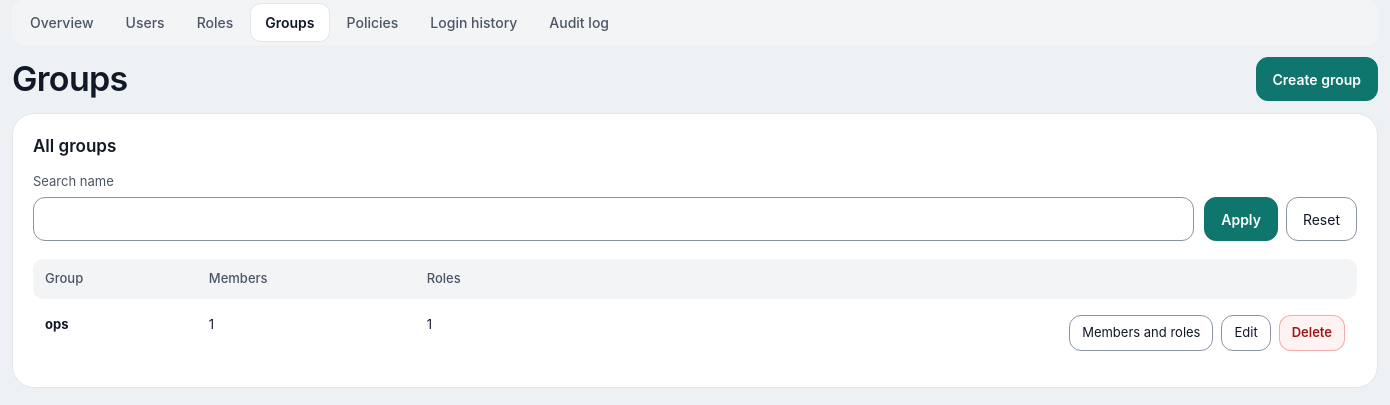
it: IAM groups › filters by name
Expected: the cell "ops" is shown, [33, 304, 197, 360]
Type "nope" into the field labelled "Search name" at (614, 219), box [33, 197, 1194, 241]
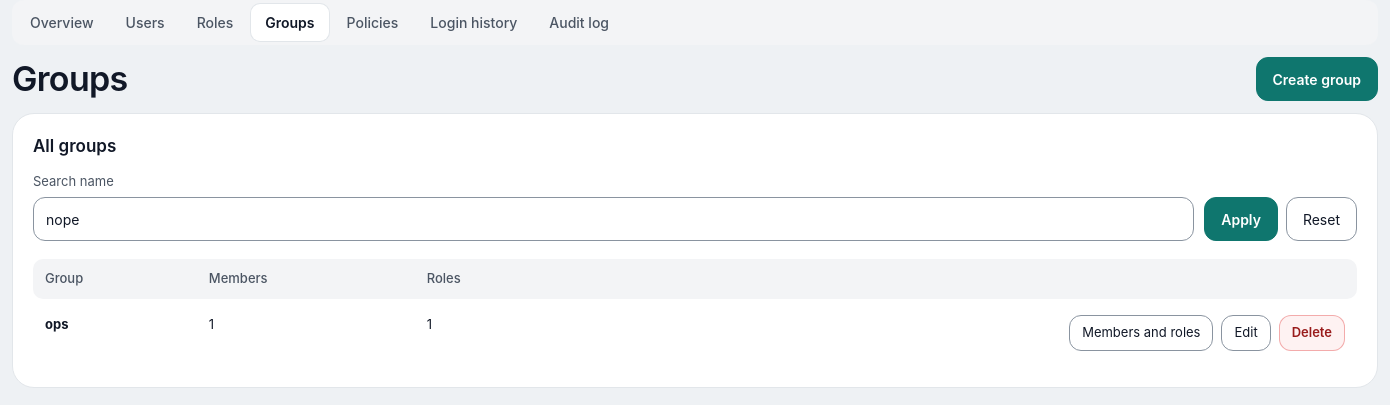
Click the button "Apply" at (1241, 219), box [1204, 197, 1278, 241]
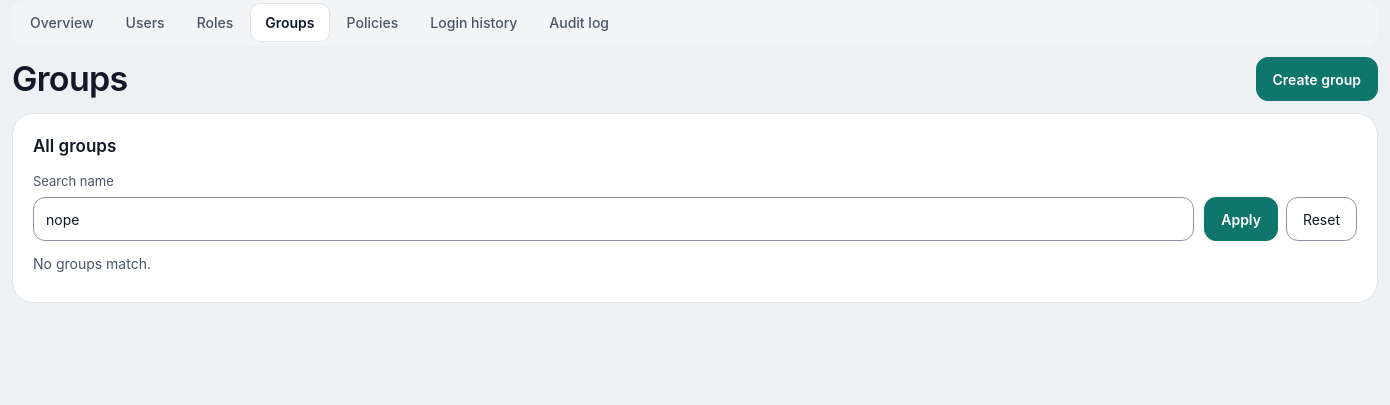
Expected: the text "No groups match." is shown, [33, 255, 151, 272]
